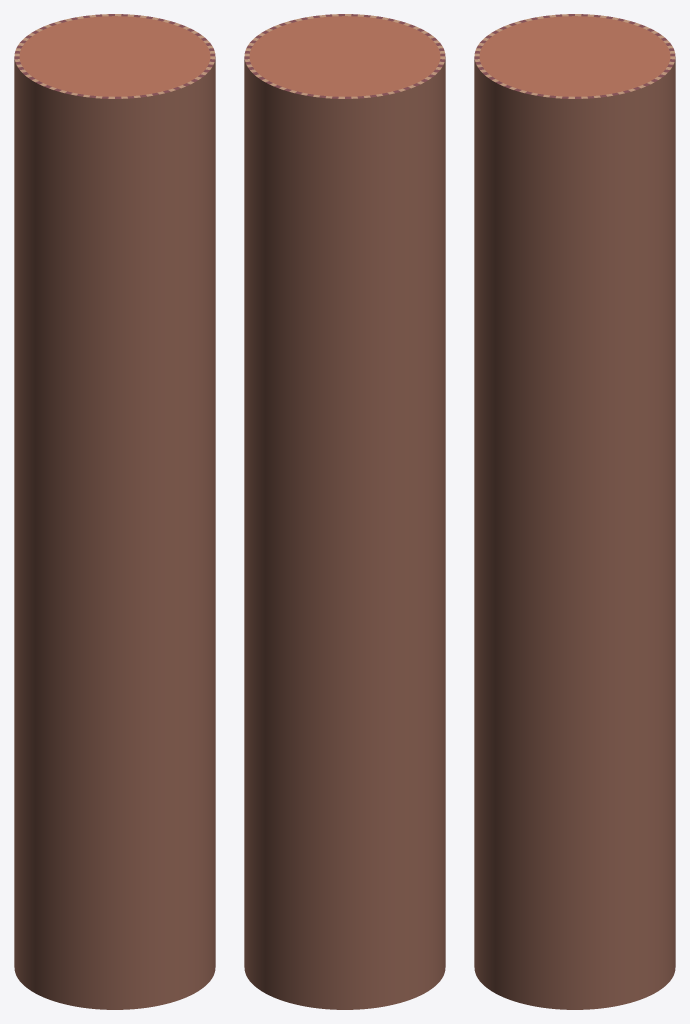
The model's file is SM_MainPlatform.fbx.
The picture shows the model from 3 angles, left to right: view 1: azimuth 30°, elevation 25°; view 2: azimuth 150°, elevation 25°; view 3: azimuth 270°, elevation 25°; orthographic projection.
Visible parts, largest first — view 1: MainPlatform; view 2: MainPlatform; view 3: MainPlatform.
Boxes of the visible parts, x1,y1,x2,y2 form: MainPlatform: (14,14,215,1009); MainPlatform: (244,14,445,1009); MainPlatform: (474,14,675,1009).
Size of the model in its own units: 2000 by 10000 by 2000.
1 material, 1 textured.
